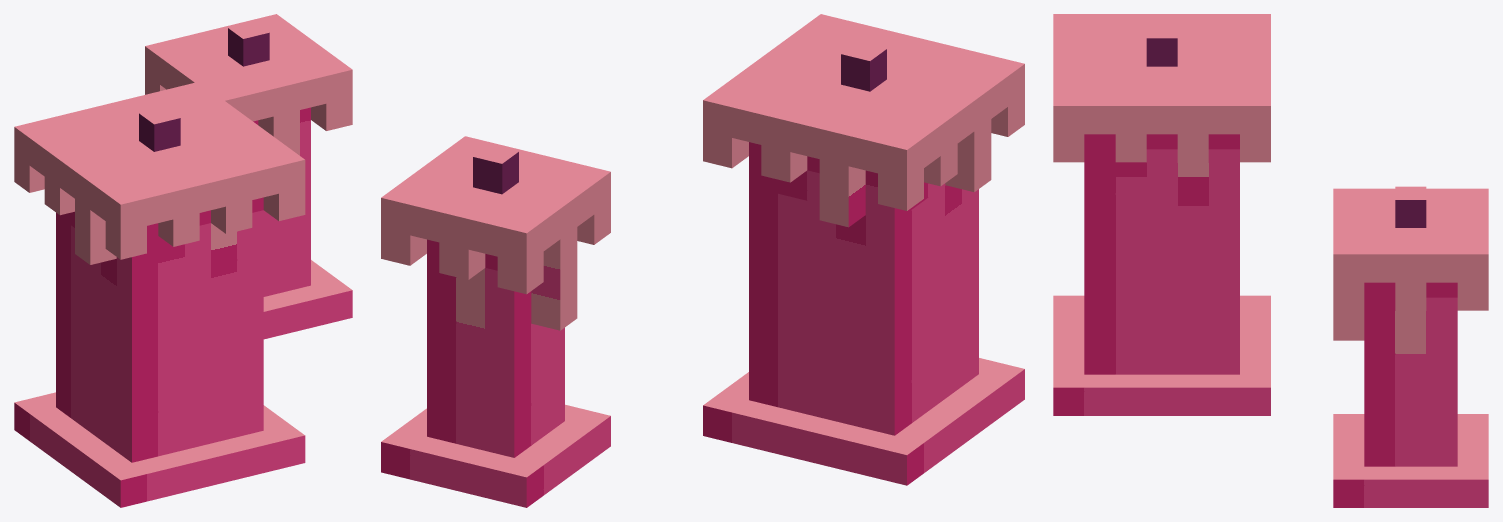
The model's file is candles_aao.fezao.glb.
3 renders of one model, left to right at view 1: azimuth 30°, elevation 25°; view 2: azimuth 150°, elevation 25°; view 3: azimuth 270°, elevation 25°, orthographic. The views are drawn at different scales.
Visible parts, largest first — view 1: CANDLES_AAO; view 2: CANDLES_AAO; view 3: CANDLES_AAO.
Boxes of the visible parts, x1,y1,x2,y2 form: CANDLES_AAO: [14, 14, 352, 507]; CANDLES_AAO: [381, 14, 1024, 507]; CANDLES_AAO: [1053, 14, 1488, 507].
Bounding box in the file's own units: 0.875 × 0.75 × 0.875.
Materials: 1 (1 with a texture image).
